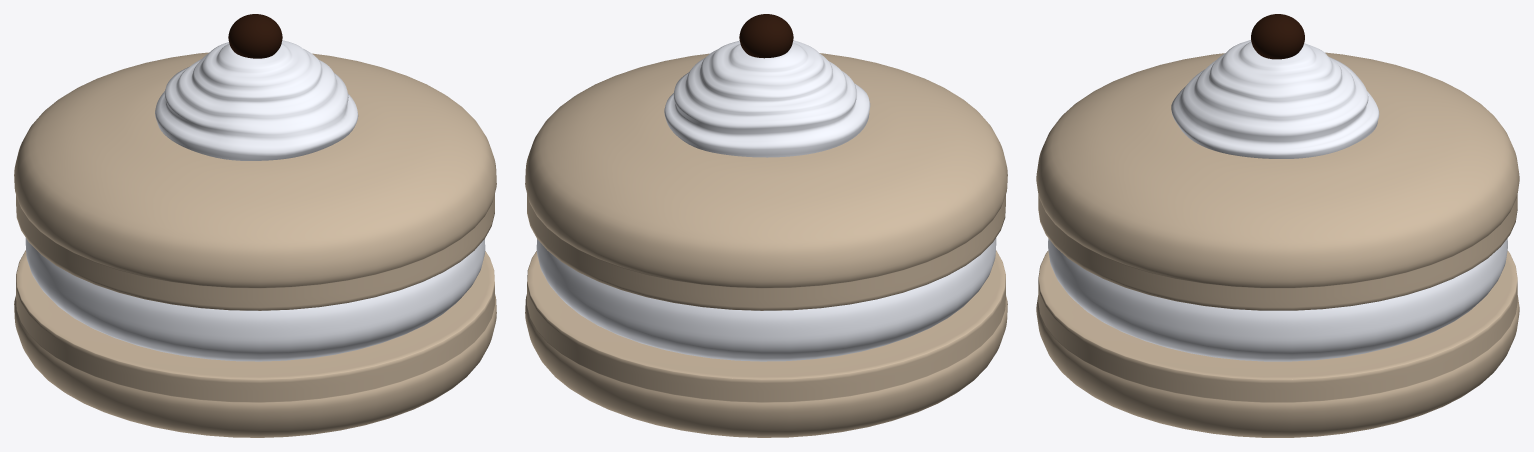
Rendered from Macaron.fbx.
3 renders of one model, left to right at view 1: azimuth 30°, elevation 25°; view 2: azimuth 150°, elevation 25°; view 3: azimuth 270°, elevation 25°, orthographic.
Parts seen in each view (by area): view 1: Macaron, Cream, Cake, Sphere; view 2: Macaron, Cream, Cake, Sphere; view 3: Macaron, Cream, Cake, Sphere.
Part boxes in pixels (x1=…): Macaron: x1=14, y1=52, x2=496, y2=437; Cream: x1=25, y1=238, x2=485, y2=361; Cake: x1=155, y1=40, x2=358, y2=160; Sphere: x1=228, y1=14, x2=282, y2=58; Macaron: x1=525, y1=53, x2=1007, y2=437; Cream: x1=536, y1=238, x2=996, y2=361; Cake: x1=664, y1=40, x2=870, y2=157; Sphere: x1=739, y1=14, x2=793, y2=58; Macaron: x1=1036, y1=52, x2=1519, y2=437; Cream: x1=1048, y1=238, x2=1507, y2=361; Cake: x1=1171, y1=40, x2=1379, y2=158; Sphere: x1=1251, y1=14, x2=1304, y2=59.
Size of the model in its own units: 8.21 by 6.7 by 8.22.
